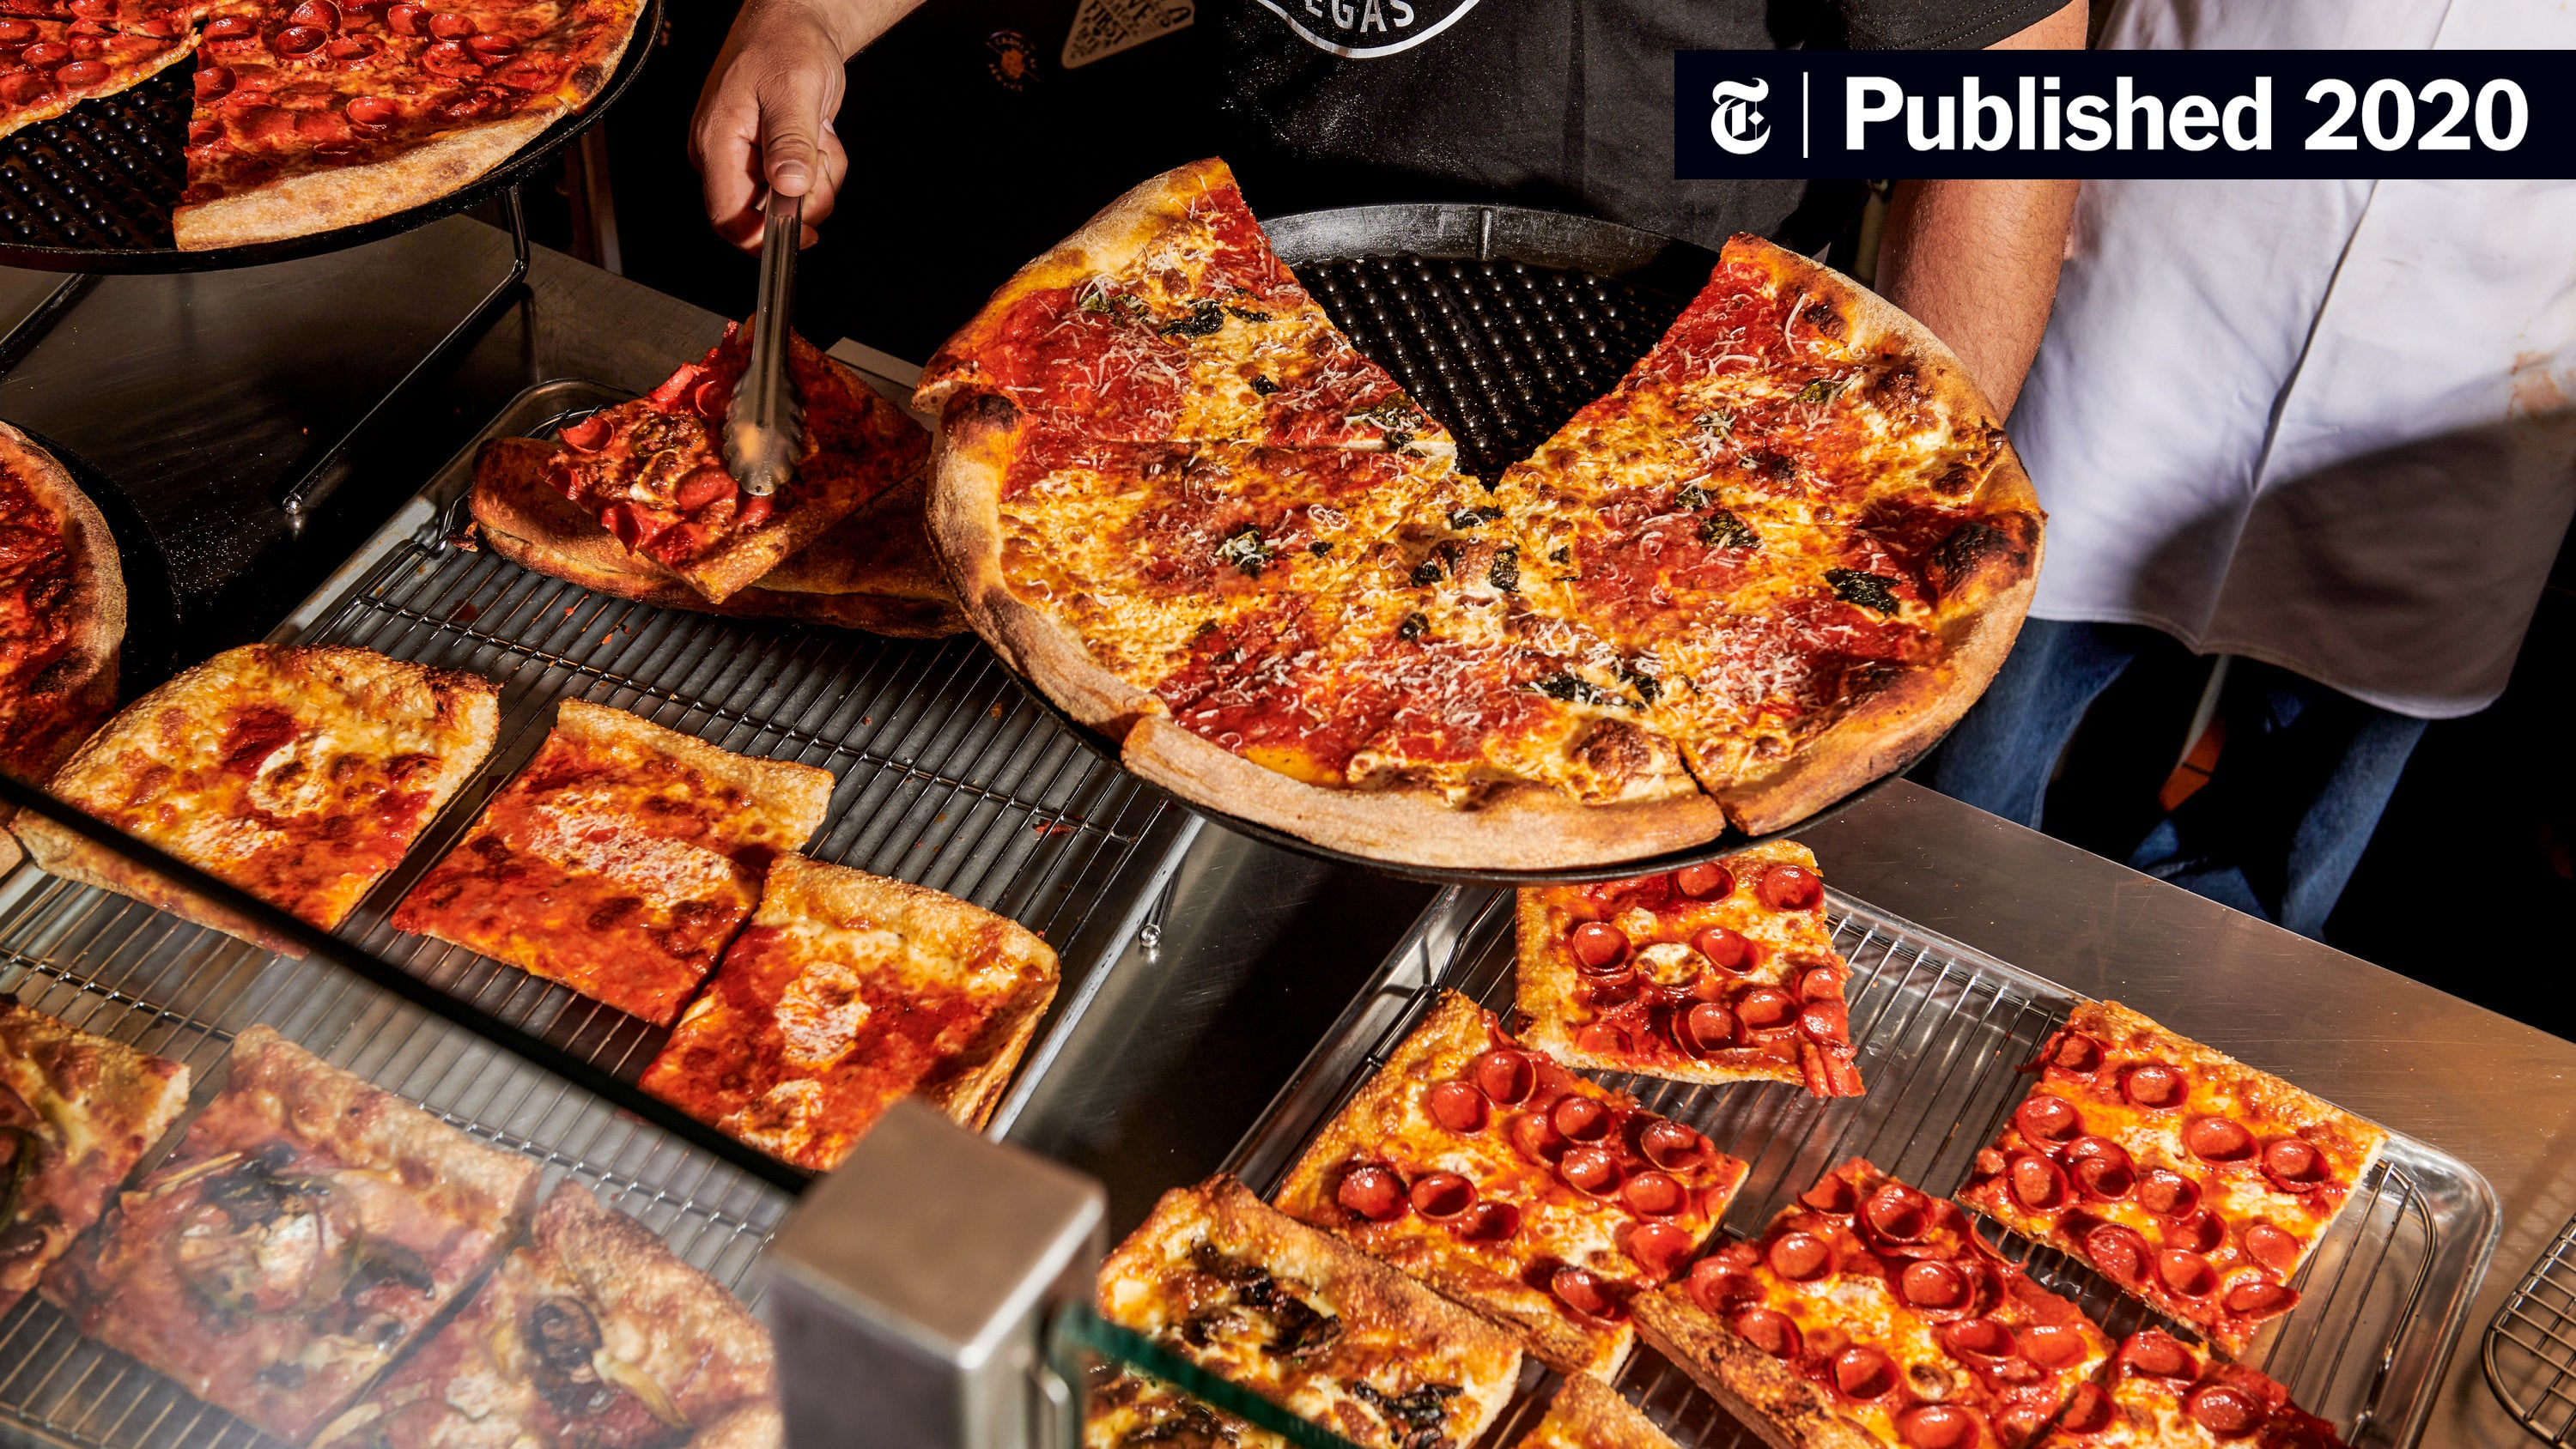Pizza: (909, 152, 2054, 876), (28, 1024, 550, 1437), (1263, 985, 1748, 1371), (0, 0, 658, 278), (1944, 993, 2399, 1362), (391, 697, 844, 1031), (1626, 1146, 2116, 1449), (39, 617, 504, 936), (1016, 1164, 1527, 1449), (637, 855, 1069, 1175), (318, 1180, 778, 1449), (524, 311, 936, 609), (1514, 837, 1874, 1102), (0, 1012, 198, 1322), (0, 416, 134, 824), (2049, 1318, 2342, 1449)
